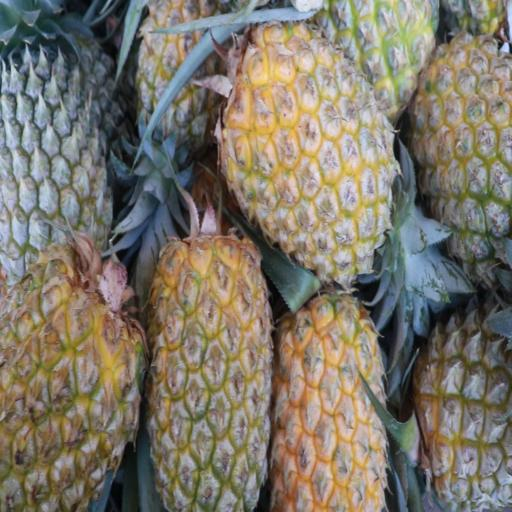------------------------------: (416, 35, 512, 279), (411, 288, 512, 507), (138, 0, 230, 149)
Pineapple - v8 v1: (223, 13, 387, 274), (0, 248, 147, 512), (151, 232, 268, 506), (277, 292, 384, 511), (336, 0, 434, 115)
